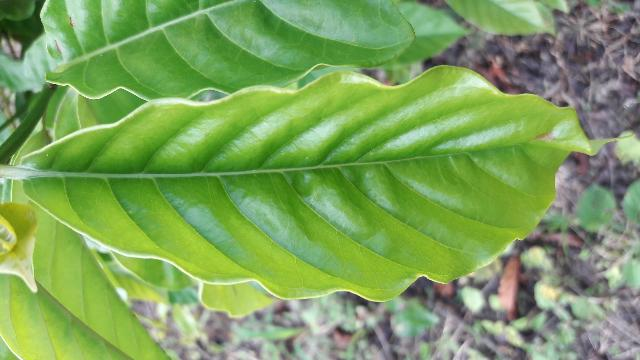healthy: (21, 69, 631, 305)
